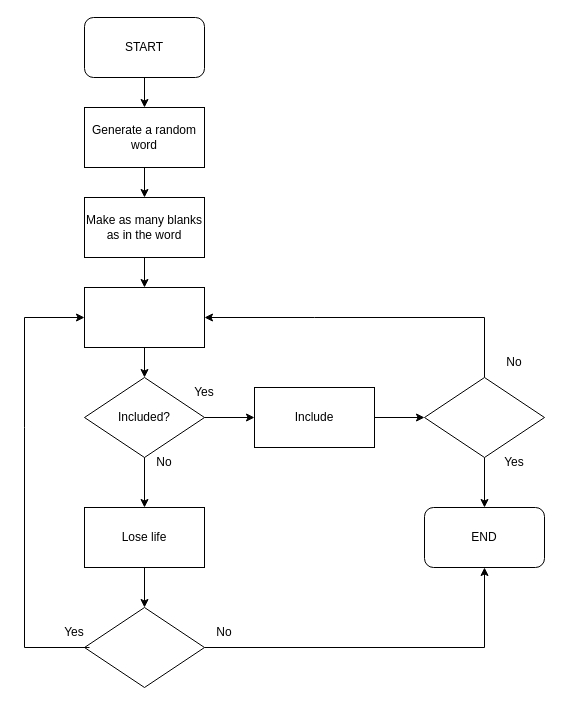
Image size: 562x705. Some labels were removed from this diagram. The centre of each missing label's shape, as x and y in pixels:
"Completed?" belongs at (x=484, y=417).
"Life remaining?" belongs at (x=144, y=647).
"Pick a letter" belongs at (x=144, y=317).
